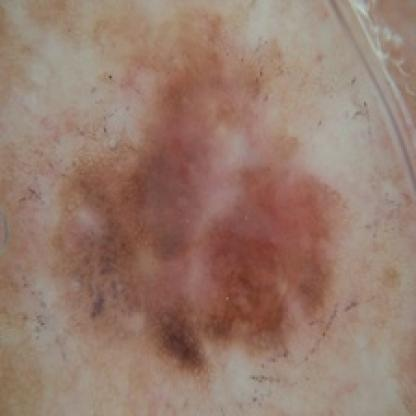Skin_Cancer-Malignant: (48, 15, 348, 384)
